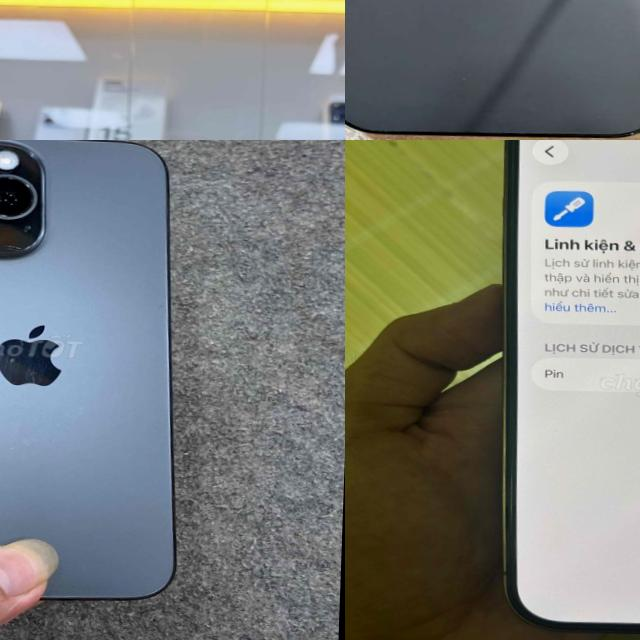physical_damage: (0, 240, 22, 249)
scratch: (21, 366, 38, 384)
